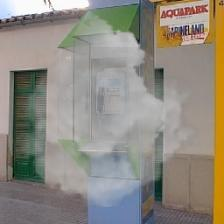fire: (12, 15, 201, 207)
